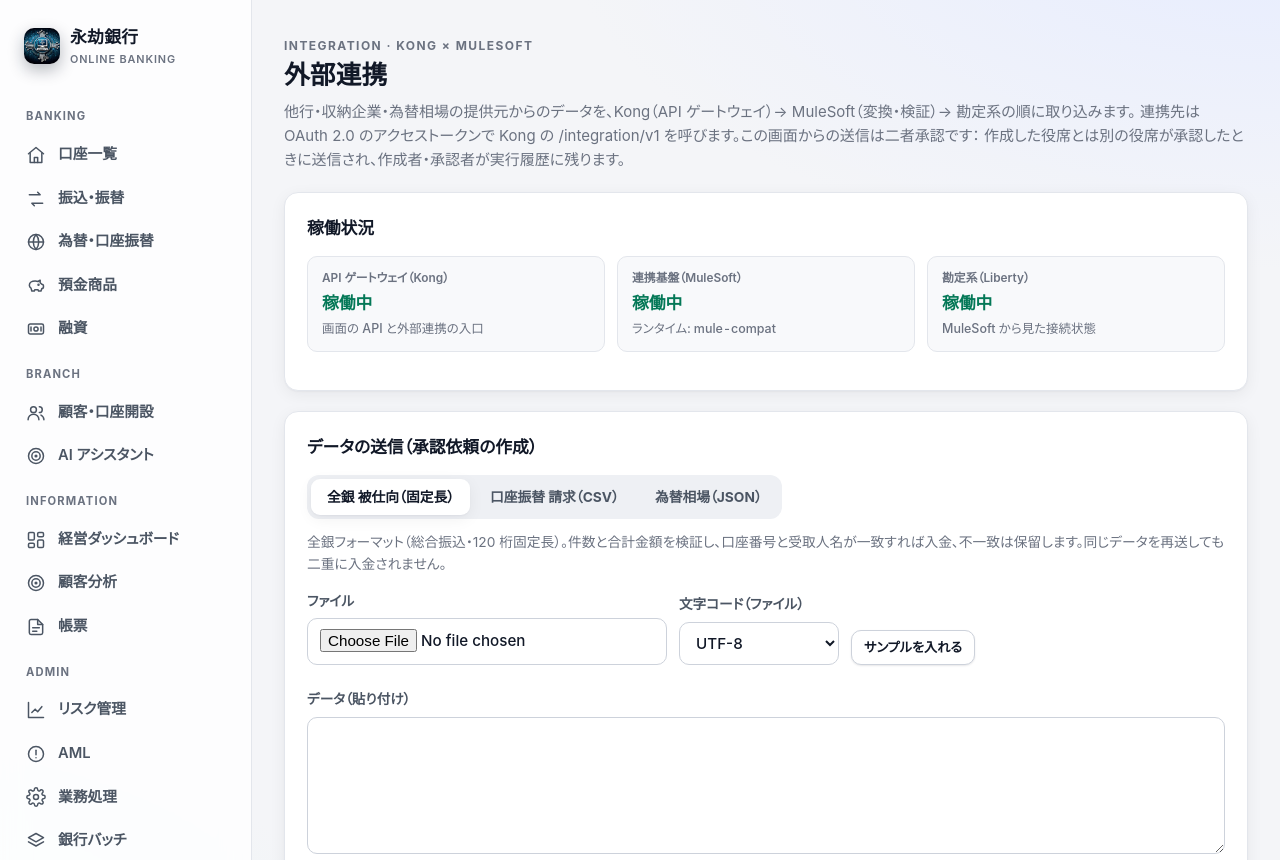
Test: IntegrationPage › 全銀：サンプルを入れて承認依頼を作成する（この時点では送信しない）
Click the button "サンプルを入れる" at (913, 647), box [851,630,975,665]
(page scrolled)
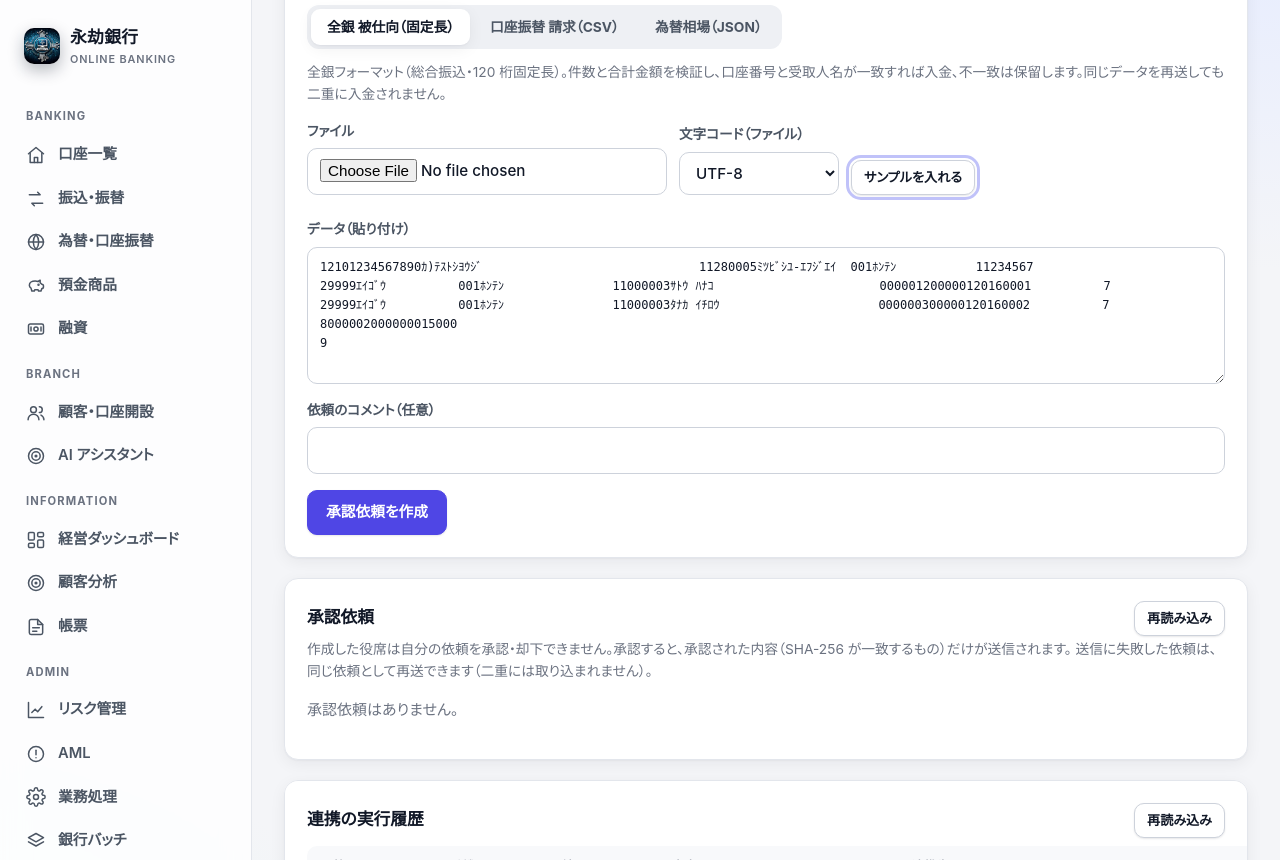
Type "午前分" into the field labelled "依頼のコメント（任意）" at (766, 451), box [307,427,1225,474]
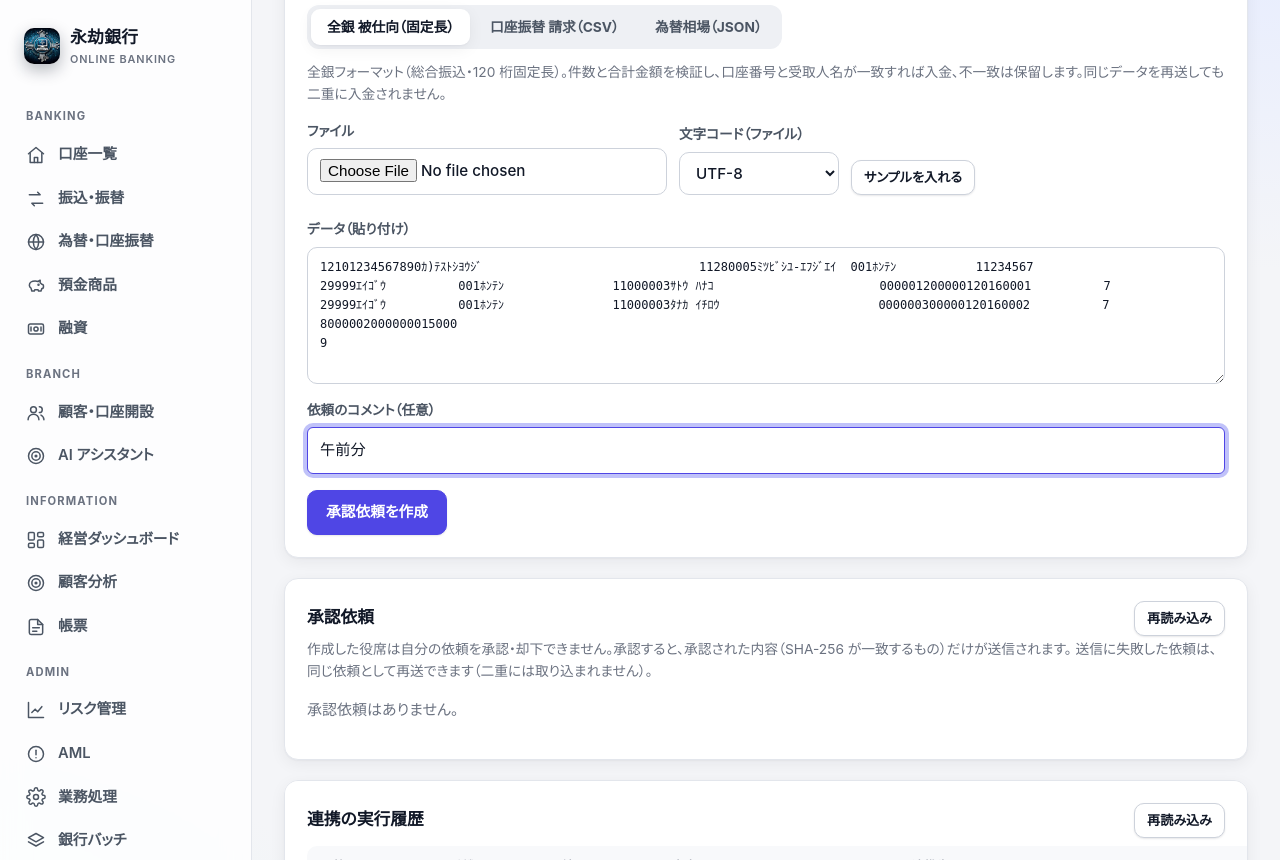
Click the button "承認依頼を作成" at (377, 512), box [307,490,447,535]
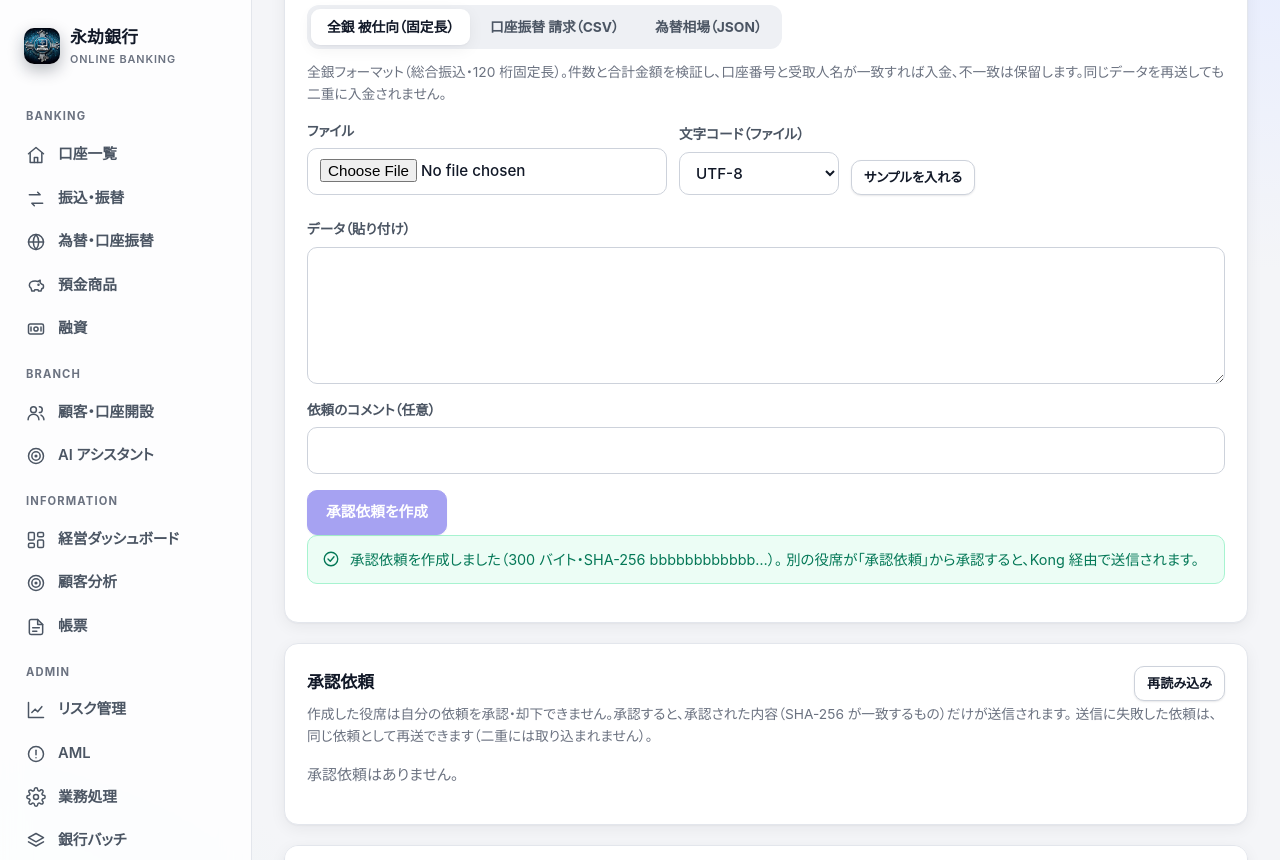
Now the text "承認依頼を作成しました（300 バイト・SHA-256 bbbbbbbbbbbb…）" is shown, box [350,548,1199,571]
